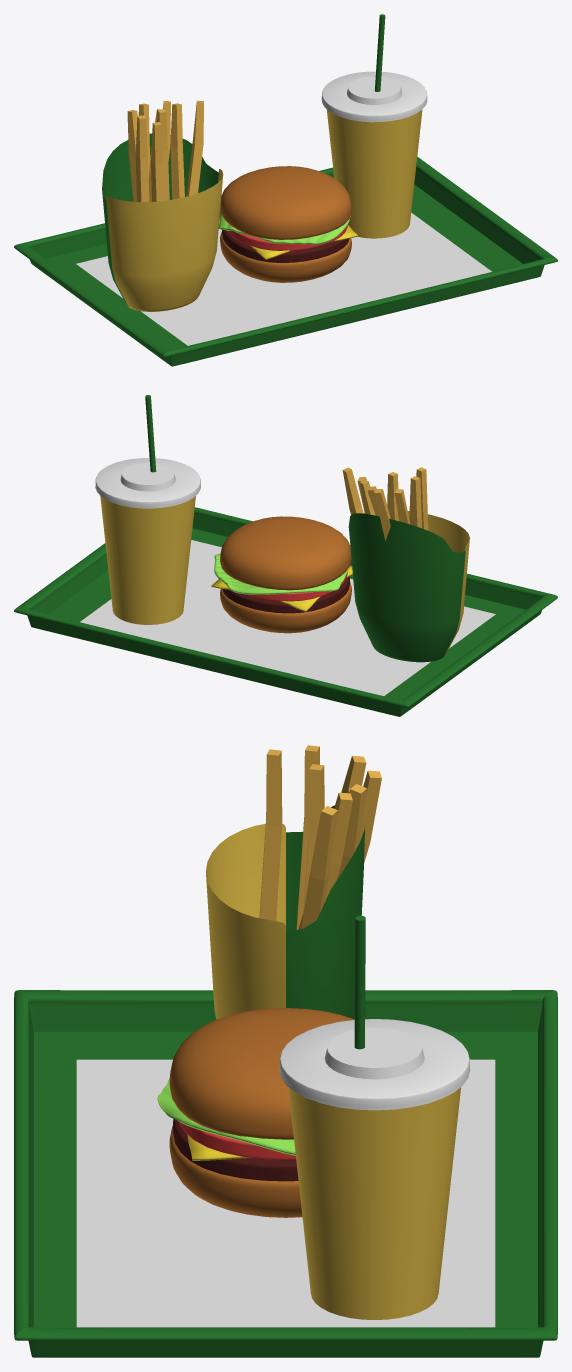
The model's file is world-burger-baked.glb.
3 views of the same model, one above another, from view 1: azimuth 30°, elevation 25°; view 2: azimuth 150°, elevation 25°; view 3: azimuth 270°, elevation 25° (orthographic). The views are drawn at different scales.
Parts seen in each view (by area): view 1: tray, box, cup, bun-top, burger, patty, frenchie.003, frenchie.002, frenchie.005, frenchie.004, tomato, lettuce (+3 smaller); view 2: tray, box, cup, bun-top, burger, patty, lettuce, frenchie.002, tomato, frenchie.005, skraw, frenchie.001 (+3 smaller); view 3: tray, cup, box, bun-top, burger, frenchie.004, patty, frenchie.005, skraw, tomato, lettuce, frenchie.001 (+4 smaller).
Part boxes in pixels (x1,y1,x2,y2): tray: (14, 157, 557, 366); box: (102, 133, 223, 311); cup: (321, 71, 427, 238); bun-top: (220, 166, 351, 239); burger: (220, 232, 351, 282); patty: (222, 224, 349, 262); frenchie.003: (170, 103, 184, 199); frenchie.002: (135, 115, 149, 202); frenchie.005: (186, 100, 203, 196); frenchie.004: (151, 122, 164, 201); tomato: (227, 225, 347, 250); lettuce: (219, 215, 350, 244); tray: (14, 507, 557, 716); box: (348, 511, 469, 662); cup: (95, 458, 200, 624); bun-top: (220, 516, 351, 590); burger: (220, 582, 351, 633); patty: (222, 576, 349, 613); lettuce: (214, 553, 347, 594); frenchie.002: (409, 476, 421, 528); tomato: (246, 571, 347, 601); frenchie.005: (342, 467, 363, 514); skraw: (145, 395, 156, 472); frenchie.001: (387, 472, 399, 520); tray: (14, 990, 557, 1357); cup: (279, 1019, 470, 1319); box: (206, 805, 365, 1019); bun-top: (169, 1008, 354, 1139); burger: (169, 1126, 302, 1217); frenchie.004: (259, 749, 282, 921); patty: (173, 1119, 298, 1181); frenchie.005: (301, 806, 337, 929); skraw: (354, 915, 365, 1049); tomato: (178, 1121, 296, 1159); lettuce: (157, 1079, 295, 1155); frenchie.001: (303, 764, 324, 912).
Bounding box in the file's own units: 6.48 × 3.34 × 4.29.
